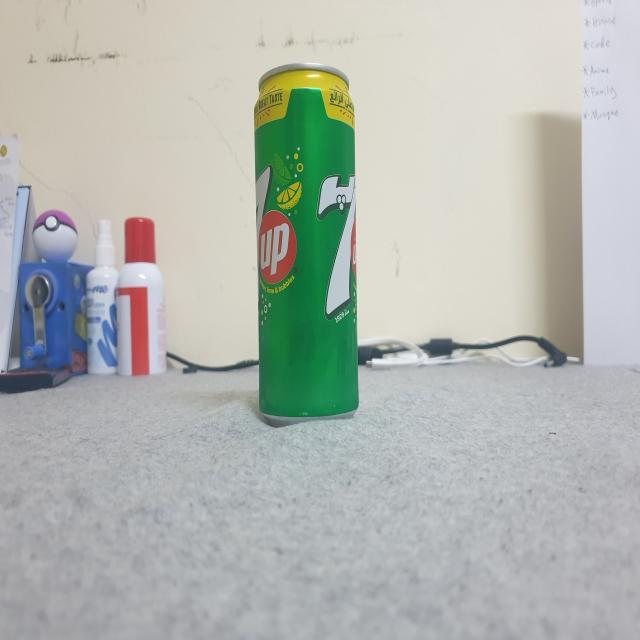can: (246, 49, 368, 438)
